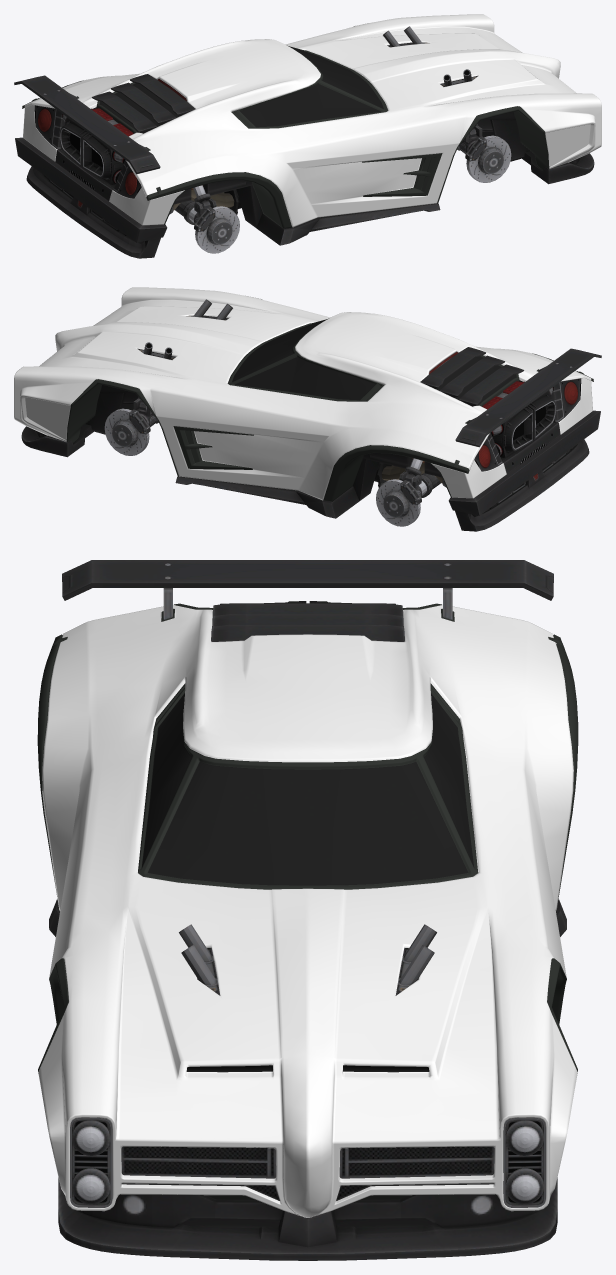
File: dominus.glb
3 views of the same model, one above another, from view 1: azimuth 30°, elevation 25°; view 2: azimuth 150°, elevation 25°; view 3: azimuth 270°, elevation 25° (orthographic). The views are drawn at different scales.
Visible parts, largest first — view 1: Dominus_Body, Dominus_Chassis; view 2: Dominus_Body, Dominus_Chassis; view 3: Dominus_Body, Dominus_Chassis.
Part boxes in pixels (x1,y1,x2,y2): Dominus_Body: (22,14,601,228); Dominus_Chassis: (14,26,594,258); Dominus_Body: (14,287,593,501); Dominus_Chassis: (21,299,601,531); Dominus_Body: (37,603,578,1217); Dominus_Chassis: (49,560,566,1260).
Size of the model in its own units: 1.51 by 0.3946 by 0.7252.
Materials: 2 (2 with a texture image).
